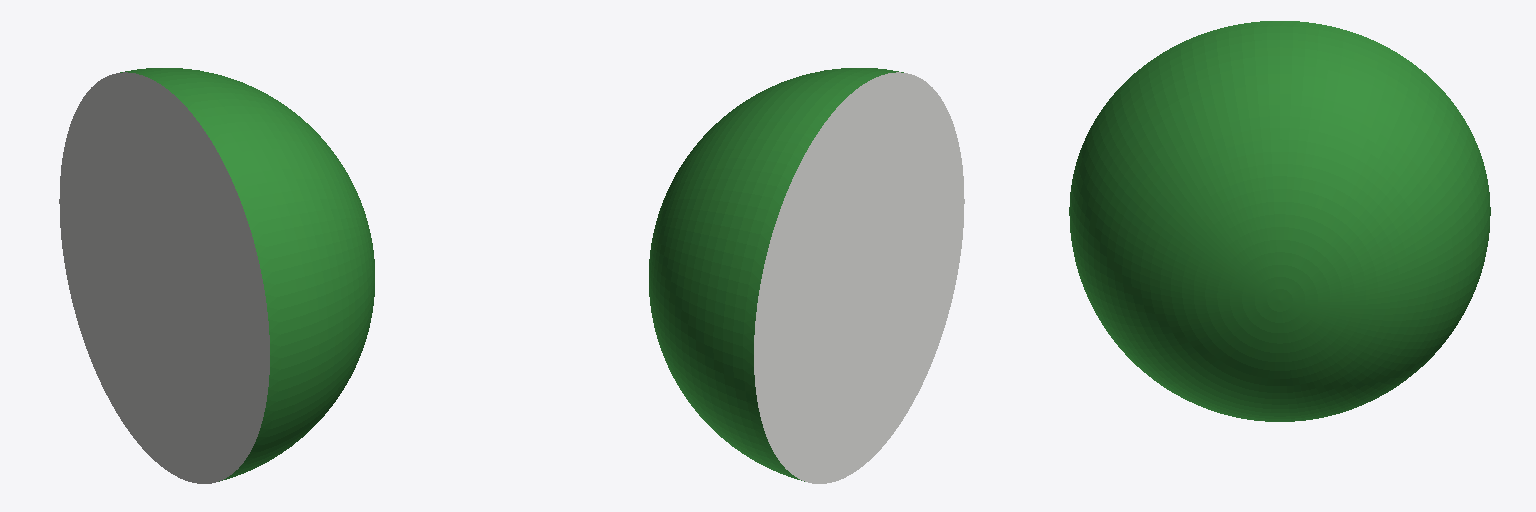
Rendered from half_green.obj.
3 renders of one model, left to right at view 1: azimuth 30°, elevation 25°; view 2: azimuth 150°, elevation 25°; view 3: azimuth 270°, elevation 25°, orthographic.
Parts seen in each view (by area): view 1: Body1; view 2: Body1; view 3: Body1.
Part boxes in pixels (bbox=[...]): Body1: bbox=[59, 68, 374, 483]; Body1: bbox=[649, 68, 964, 483]; Body1: bbox=[1069, 21, 1490, 421].
Size of the model in its own units: 2.5 by 5 by 5.